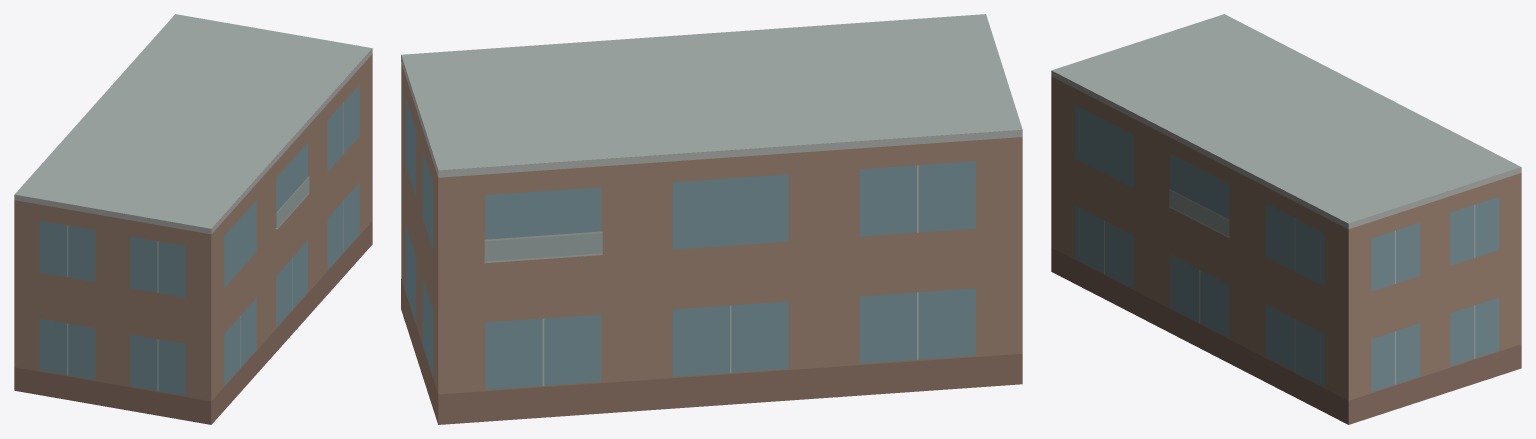
The model's file is survey-upis-32740078.glb.
3 views of the same model, side by side, from view 1: azimuth 30°, elevation 25°; view 2: azimuth 150°, elevation 25°; view 3: azimuth 270°, elevation 25° (orthographic). The views are drawn at different scales.
Visible parts, largest first — view 1: survey-upis-32740078.tmp; view 2: survey-upis-32740078.tmp; view 3: survey-upis-32740078.tmp.
Part boxes in pixels (<box>): survey-upis-32740078.tmp: <box>14,14,372,424</box>; survey-upis-32740078.tmp: <box>401,14,1022,424</box>; survey-upis-32740078.tmp: <box>1051,14,1521,424</box>.
Size of the model in its own units: 19.11 by 8.55 by 18.12.
